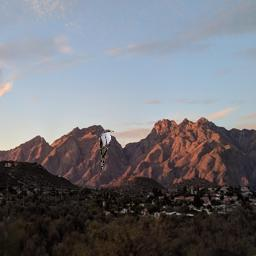Cuckoo: (99, 129, 114, 169)
